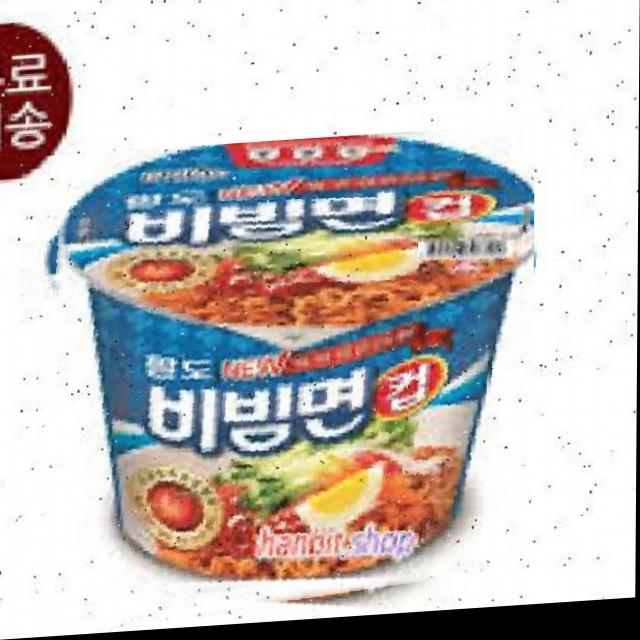Miscellaneous: (20, 131, 535, 639)
